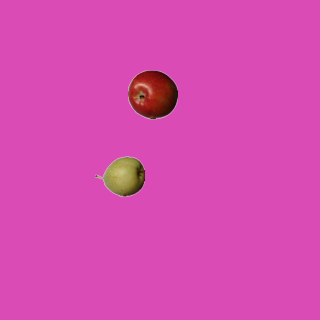Apple Braeburn: (127, 69, 177, 119)
Pear: (94, 151, 144, 201)
